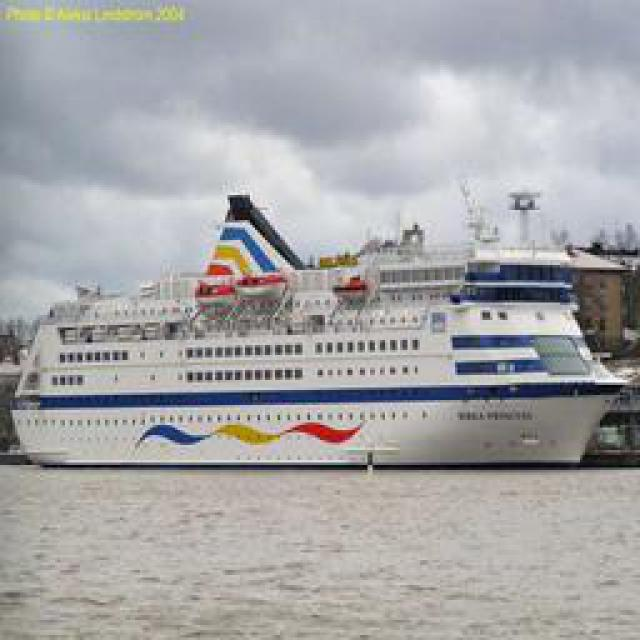Ship: (19, 211, 634, 464)
